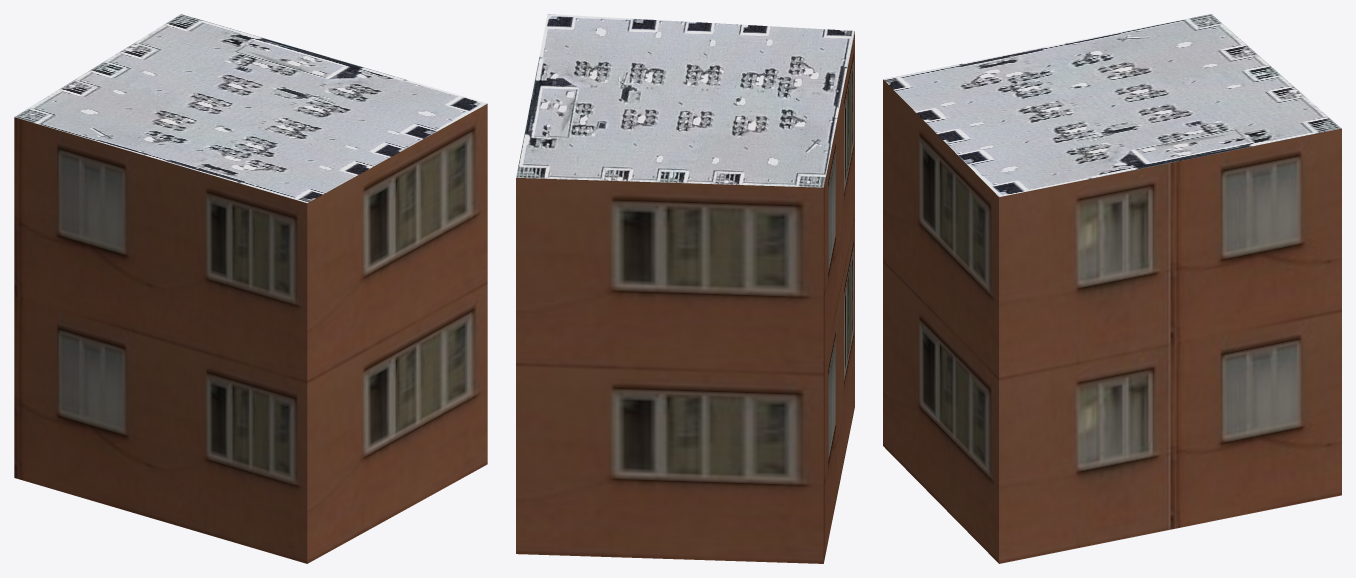
Rendered from ResTex__1495.fbx.
3 views of the same model, side by side, from view 1: azimuth 30°, elevation 25°; view 2: azimuth 150°, elevation 25°; view 3: azimuth 270°, elevation 25° (orthographic). The views are drawn at different scales.
Visible parts, largest first — view 1: CityEngineMaterial_20_m, CityEngineMaterial_4_m; view 2: CityEngineMaterial_20_m, CityEngineMaterial_4_m; view 3: CityEngineMaterial_20_m, CityEngineMaterial_4_m.
Boxes of the visible parts, x1,y1,x2,y2 form: CityEngineMaterial_20_m: (14, 104, 487, 563); CityEngineMaterial_4_m: (14, 14, 487, 203); CityEngineMaterial_20_m: (516, 32, 854, 563); CityEngineMaterial_4_m: (516, 14, 854, 187); CityEngineMaterial_20_m: (883, 79, 1341, 563); CityEngineMaterial_4_m: (883, 14, 1341, 196).
Bounding box in the file's own units: 6.43 × 6 × 6.8.
Materials: 2 (2 with a texture image).
